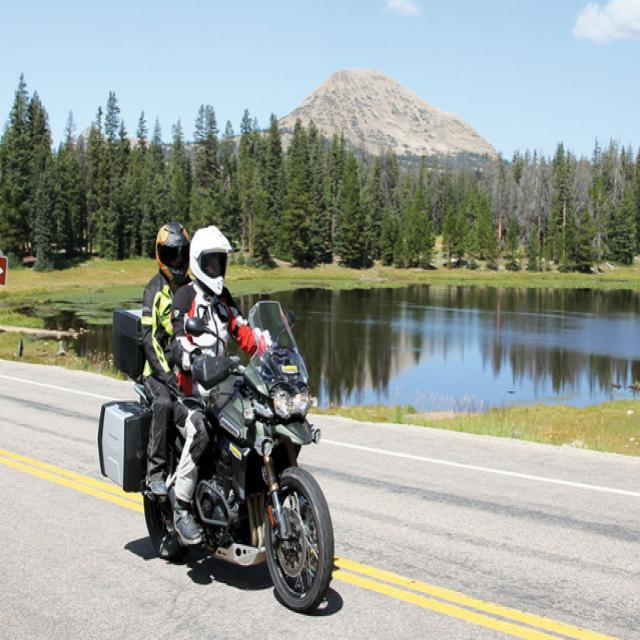helmet: (189, 223, 234, 297), (155, 221, 191, 286)
